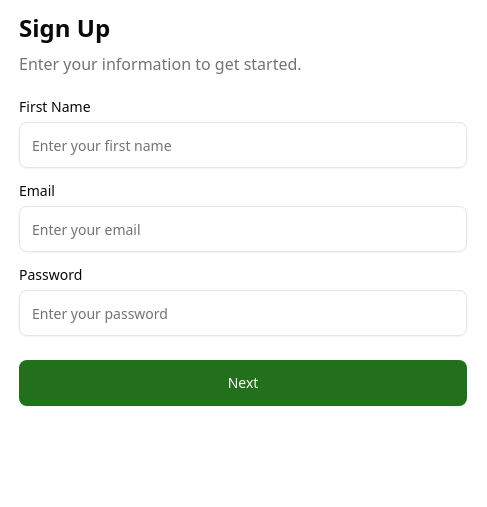
StepOne › shows validation errors for empty fields
Click the button "Next" at [243, 383], box [19,360,467,406]
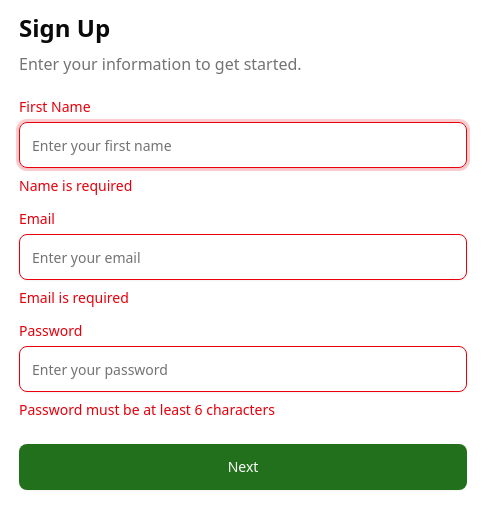
Check: the text "Name is required" is shown, box [19,176,132,195]
Check: the text "Email is required" is shown, box [19,288,129,307]
Check: the text "Password must be at least 6 characters" is shown, box [19,400,275,419]
